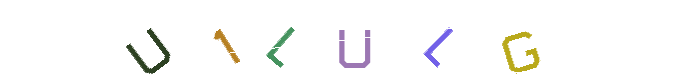1: (220, 0, 300, 80)
G: (394, 0, 474, 80)
L: (275, 0, 355, 80), (346, 0, 426, 80)
U: (112, 0, 192, 80), (305, 0, 385, 80)
